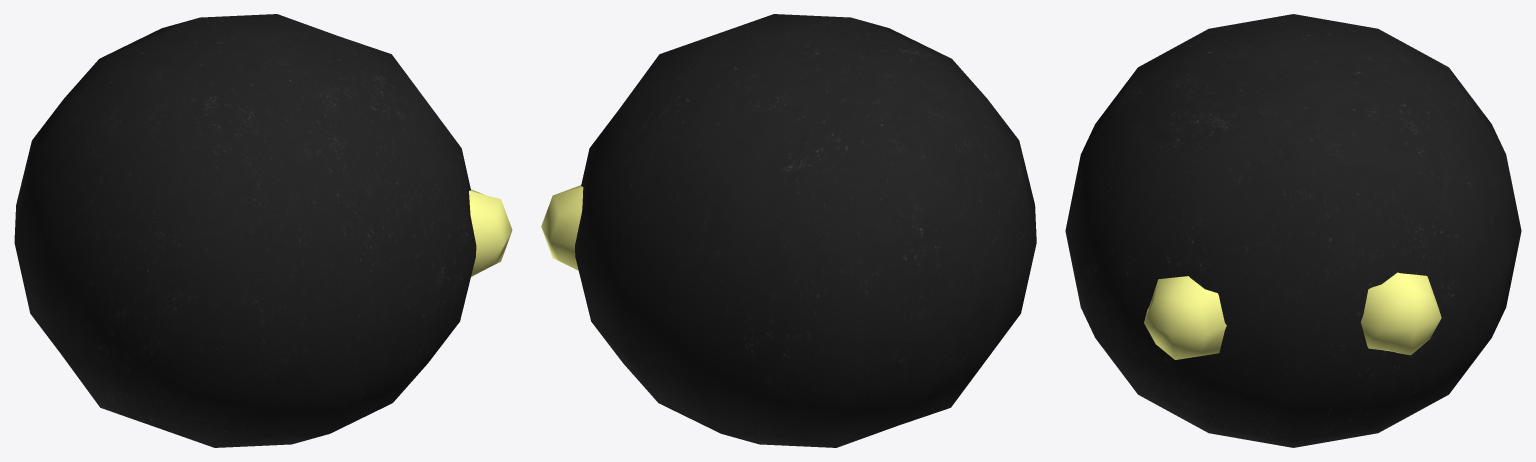
Rendered from kolobok.fbx.
The picture shows the model from 3 angles, left to right: view 1: azimuth 30°, elevation 25°; view 2: azimuth 150°, elevation 25°; view 3: azimuth 270°, elevation 25°; orthographic projection.
Visible parts, largest first — view 1: pCube14; view 2: pCube14; view 3: pCube14.
Boxes of the visible parts, left/top/right/bottom form: pCube14: left=14, top=14, right=512, bottom=447; pCube14: left=541, top=14, right=1036, bottom=447; pCube14: left=1065, top=14, right=1521, bottom=447.
Size of the model in its own units: 96.49 by 87.41 by 94.4.
